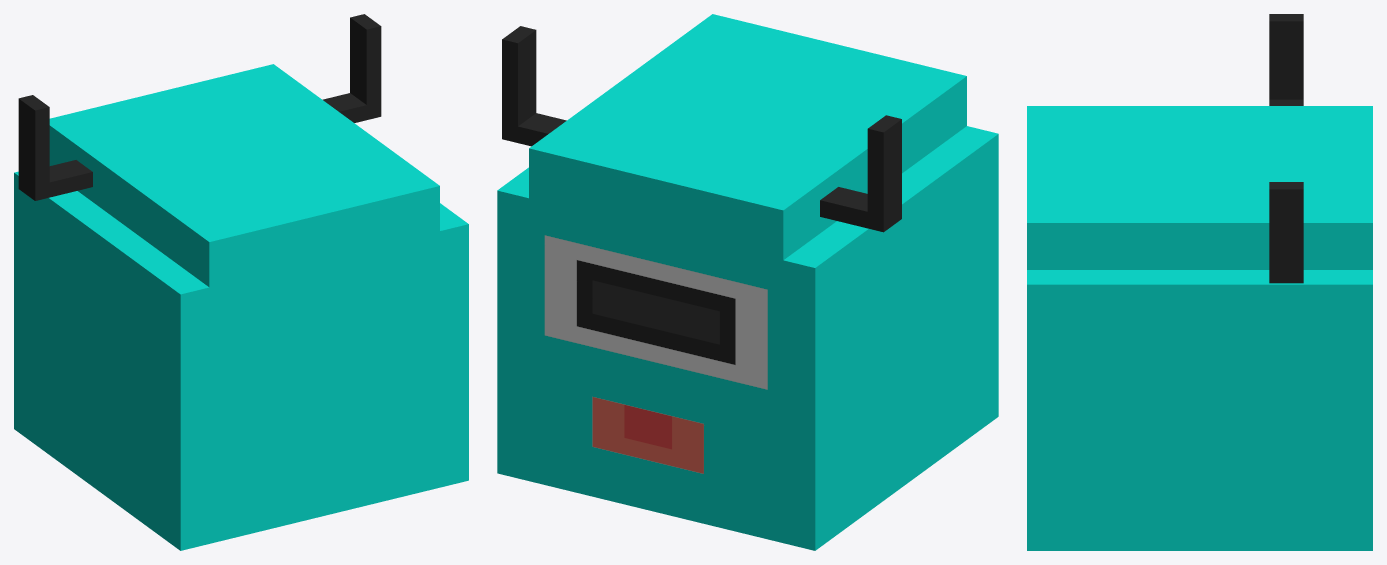
Rendered from Char14.fbx.
3 renders of one model, left to right at view 1: azimuth 30°, elevation 25°; view 2: azimuth 150°, elevation 25°; view 3: azimuth 270°, elevation 25°, orthographic. The views are drawn at different scales.
Visible parts, largest first — view 1: Box; view 2: Box; view 3: Box.
Part boxes in pixels (x1=…): Box: x1=14, y1=14, x2=468, y2=550; Box: x1=497, y1=14, x2=998, y2=550; Box: x1=1027, y1=14, x2=1372, y2=550.
Size of the model in its own units: 24 by 24 by 20.
